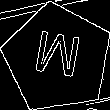M_S: (30, 29, 85, 87)
